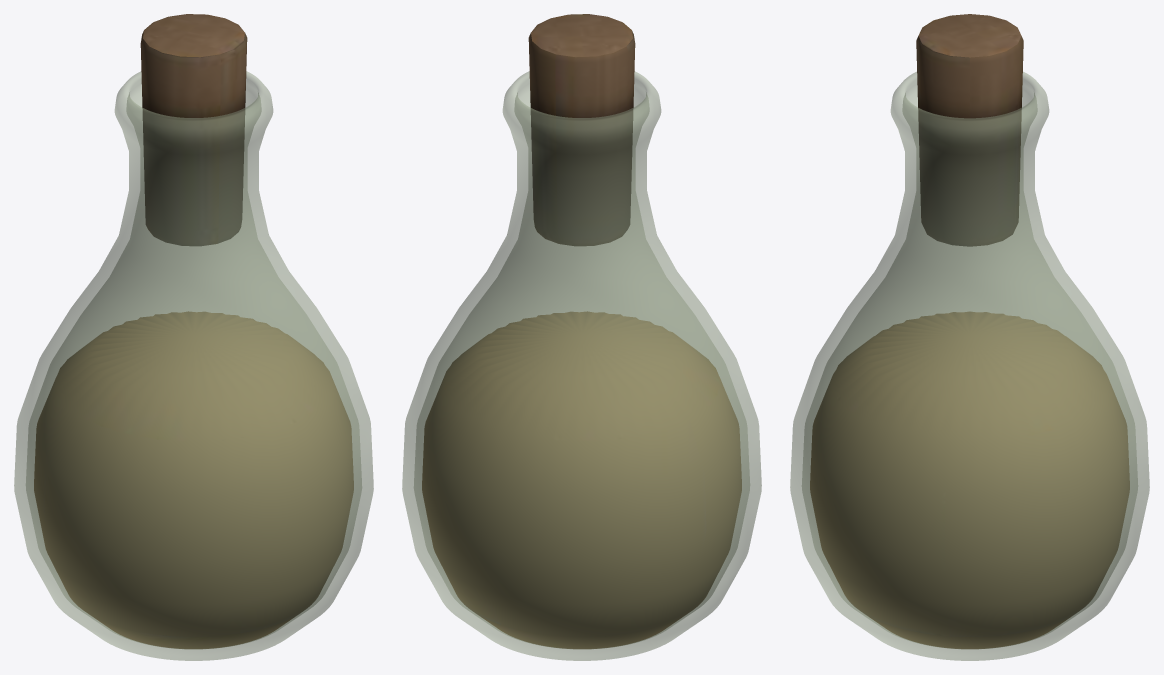
Rendered from spoiled_brew.glb.
The picture shows the model from 3 angles, left to right: view 1: azimuth 30°, elevation 25°; view 2: azimuth 150°, elevation 25°; view 3: azimuth 270°, elevation 25°; orthographic projection.
Parts seen in each view (by area): view 1: glass, spoiled_brew; view 2: glass, spoiled_brew; view 3: glass, spoiled_brew.
Part boxes in pixels (box(x1,y1,x2,y2)): glass: box(14, 71, 373, 660); spoiled_brew: box(34, 14, 353, 648); glass: box(402, 71, 761, 660); spoiled_brew: box(422, 14, 741, 648); glass: box(790, 72, 1149, 660); spoiled_brew: box(810, 14, 1129, 648).
Bounding box in the file's own units: 0.0467 × 0.0868 × 0.0467.
Materials: 2 (1 with a texture image).
